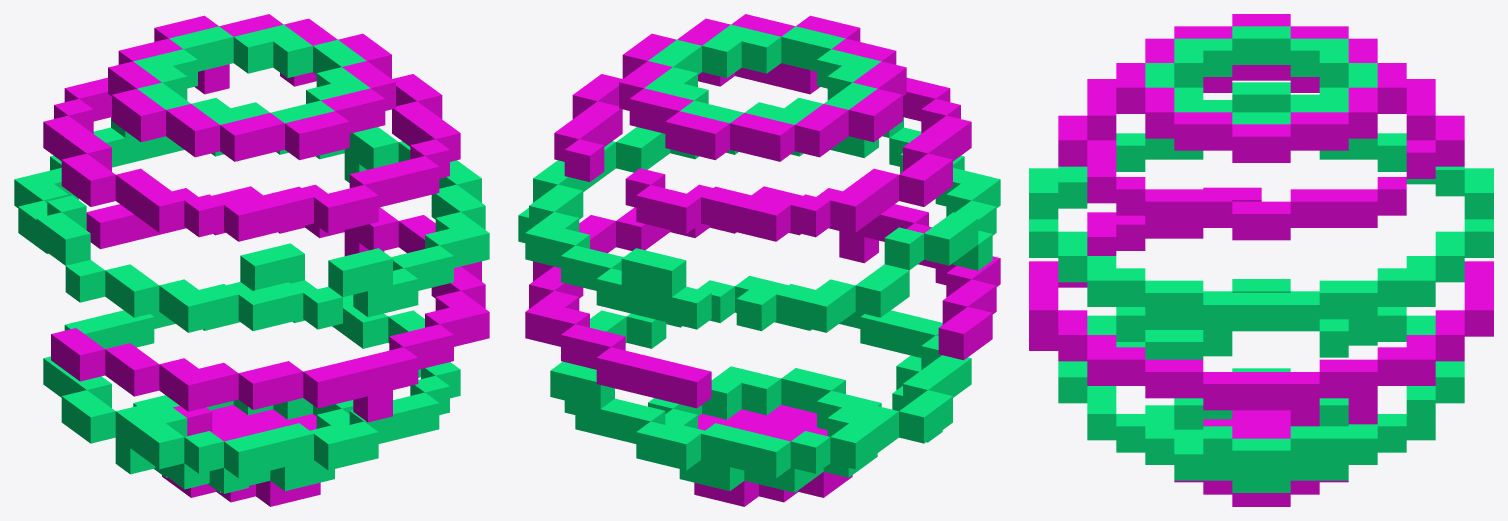
Rendered from luz-16b.obj.
3 renders of one model, left to right at view 1: azimuth 30°, elevation 25°; view 2: azimuth 150°, elevation 25°; view 3: azimuth 270°, elevation 25°, orthographic.
Bounding box in the file's own units: 1.6 × 1.5 × 1.6.
Materials: 1 (1 with a texture image).
